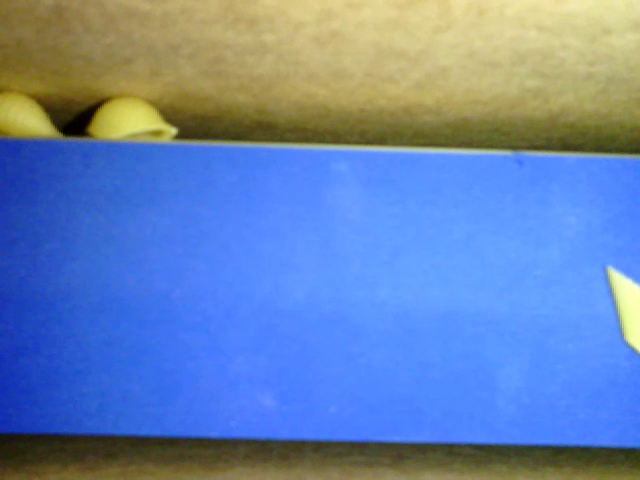penne: (605, 264, 639, 354)
shell: (89, 98, 186, 143), (1, 89, 71, 139)
